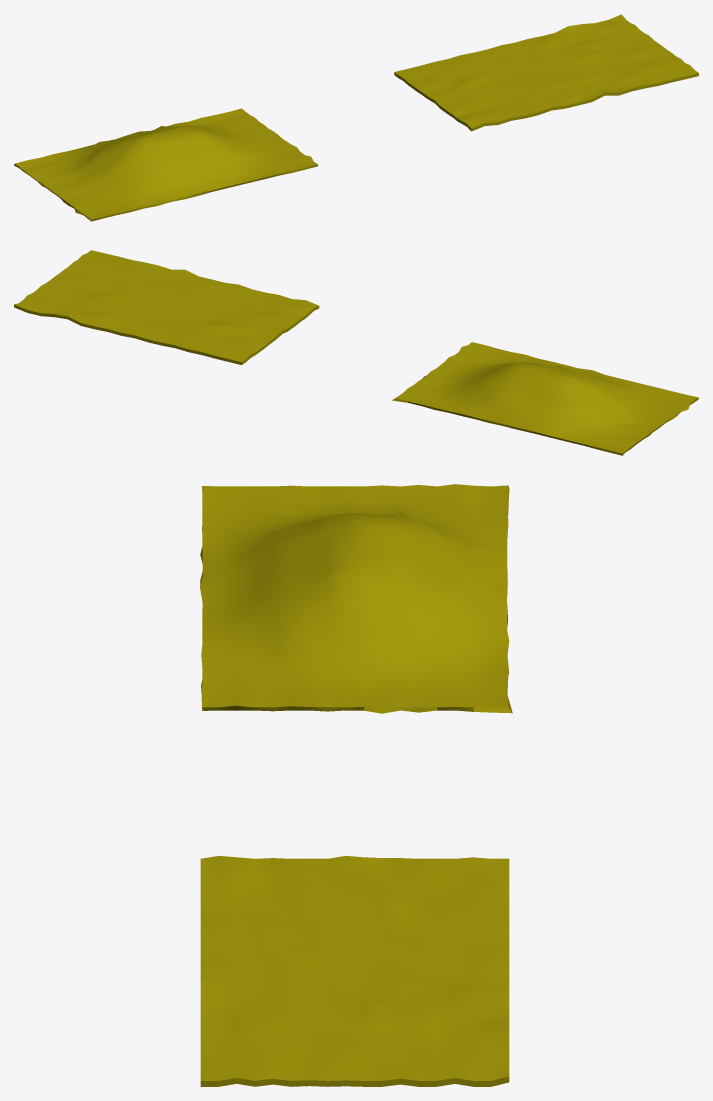
File: Sand.fbx
3 views of the same model, one above another, from view 1: azimuth 30°, elevation 25°; view 2: azimuth 150°, elevation 25°; view 3: azimuth 270°, elevation 25° (orthographic). The views are drawn at different scales.
Parts seen in each view (by area): view 1: Plane.004, Plane.002; view 2: Plane.004, Plane.002; view 3: Plane.004, Plane.002.
Part boxes in pixels (x1,y1,x2,y2): Plane.004: (394,14,698,131); Plane.002: (14,108,318,221); Plane.004: (14,250,319,364); Plane.002: (392,342,698,455); Plane.004: (200,856,509,1086); Plane.002: (200,484,512,713).
Size of the model in its own units: 379 by 19.12 by 84.2.
